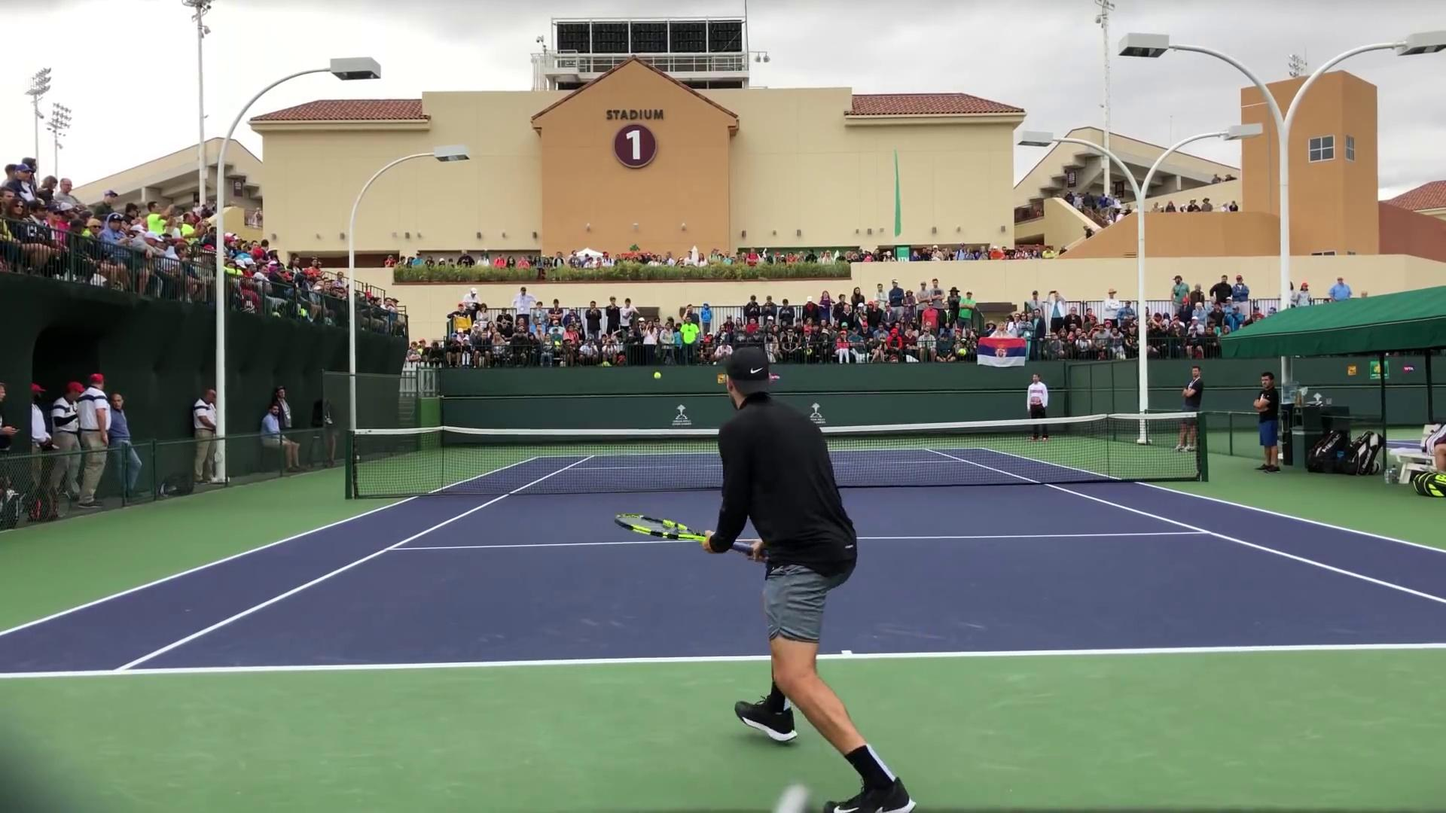ball: (653, 371, 663, 379)
